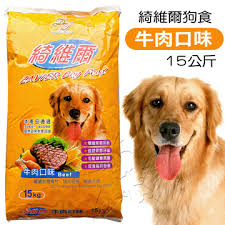dog: (142, 93, 201, 162), (61, 92, 94, 133)
